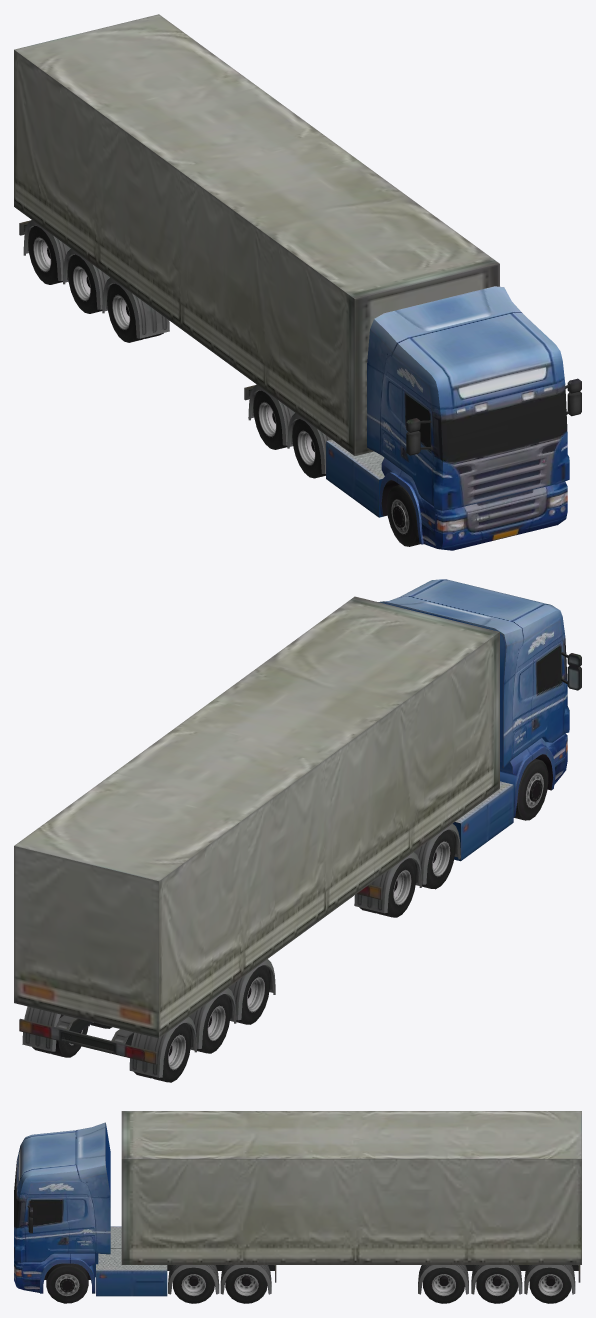
The model's file is traffic-truck-semi.glb.
The picture shows the model from 3 angles, top to bottom: view 1: azimuth 30°, elevation 25°; view 2: azimuth 150°, elevation 25°; view 3: azimuth 270°, elevation 25°; orthographic projection. The views are drawn at different scales.
Parts seen in each view (by area): view 1: Object_742, Object_40; view 2: Object_742, Object_40; view 3: Object_742, Object_40.
Boxes of the visible parts, x1,y1,x2,y2 form: Object_742: (14,14,581,550); Object_40: (28,226,420,546); Object_742: (14,579,581,1077); Object_40: (32,758,548,1082); Object_742: (14,1111,581,1296); Object_40: (46,1263,571,1303).
Size of the model in its own units: 0.2568 by 0.3079 by 1.08.
Materials: 2 (2 with a texture image).
